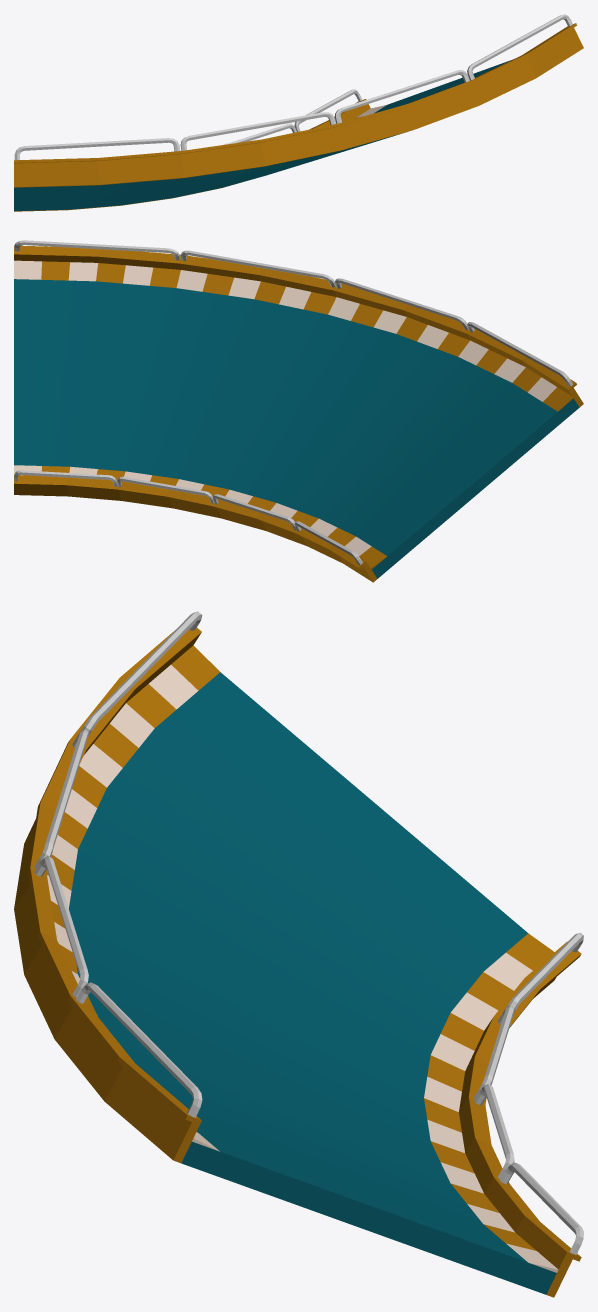
Rendered from bankedRight-60-30_m.FBX.
The picture shows the model from 3 angles, top to bottom: view 1: azimuth 30°, elevation 25°; view 2: azimuth 150°, elevation 25°; view 3: azimuth 270°, elevation 25°; orthographic projection. The views are drawn at different scales.
Parts seen in each view (by area): view 1: wall_l, bankedRight-60-30_m, wall_r; view 2: bankedRight-60-30_m, curbs_l, wall_l, wall_r, curbs_r; view 3: bankedRight-60-30_m, wall_l, wall_r, curbs_r, curbs_l.
Part boxes in pixels (x1,y1,x2,y2): wall_l: (14,14,583,187); bankedRight-60-30_m: (14,60,511,211); wall_r: (14,89,370,211); bankedRight-60-30_m: (14,279,579,578); curbs_l: (14,260,573,411); wall_l: (14,240,583,407); wall_r: (14,470,377,582); curbs_r: (14,465,387,569); bankedRight-60-30_m: (69,672,556,1294); wall_l: (14,611,202,1163); wall_r: (459,932,583,1297); curbs_r: (424,933,558,1272); curbs_l: (47,645,219,1151).
Size of what is drawn, in the model's own units: 469 by 126 by 225.
